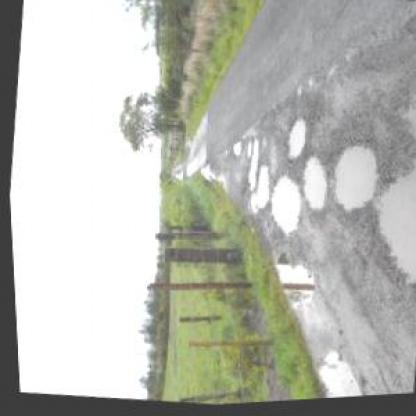pothole: (355, 148, 415, 305), (322, 143, 378, 219), (262, 173, 302, 237), (293, 158, 330, 216), (387, 78, 414, 155), (279, 115, 308, 164), (246, 165, 270, 216), (242, 137, 260, 193), (228, 142, 242, 160)
